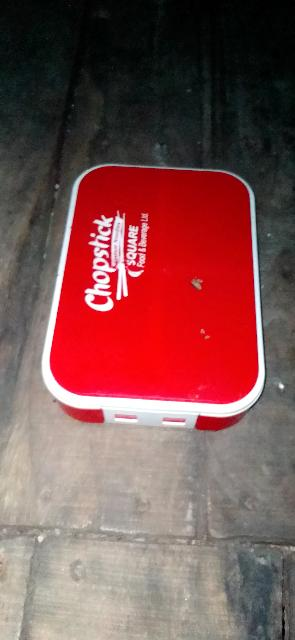hardplastic: (24, 120, 272, 477)
